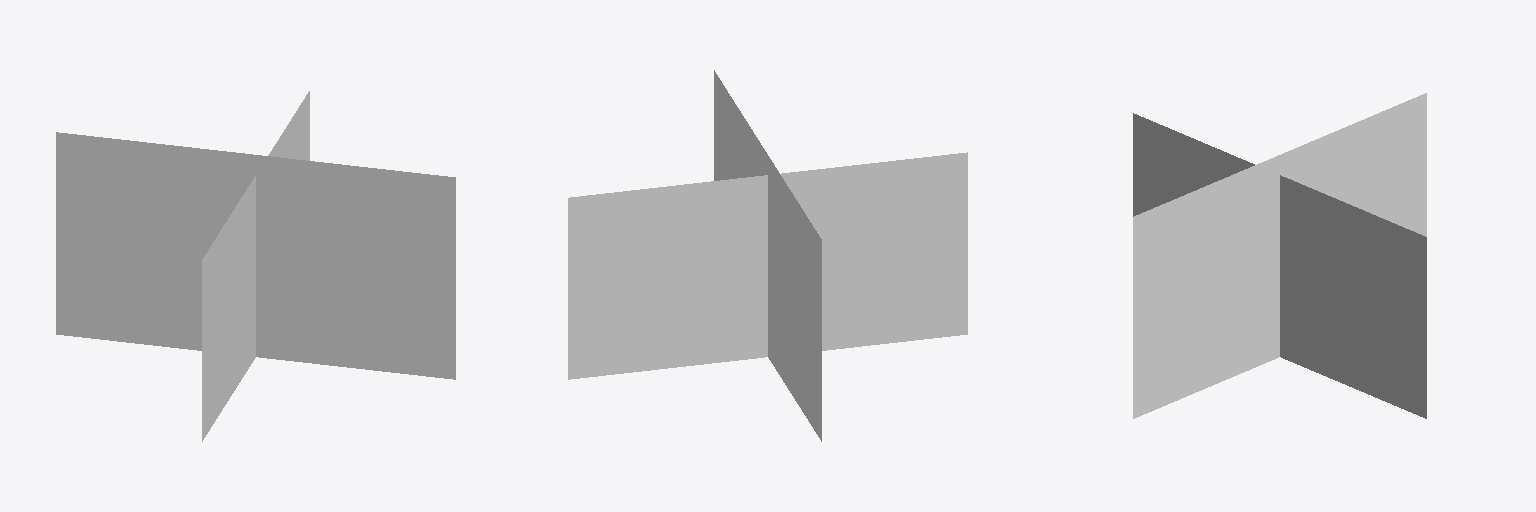
The model's file is tree-shrub.obj.
3 views of the same model, side by side, from view 1: azimuth 30°, elevation 25°; view 2: azimuth 150°, elevation 25°; view 3: azimuth 270°, elevation 25° (orthographic).
Visible parts, largest first — view 1: tree-shrub; view 2: tree-shrub; view 3: tree-shrub.
Part boxes in pixels (bbox=[...]): tree-shrub: bbox=[56, 91, 455, 441]; tree-shrub: bbox=[568, 70, 967, 441]; tree-shrub: bbox=[1133, 93, 1426, 418].
Size of the model in its own units: 0.9192 by 0.7 by 0.9192.